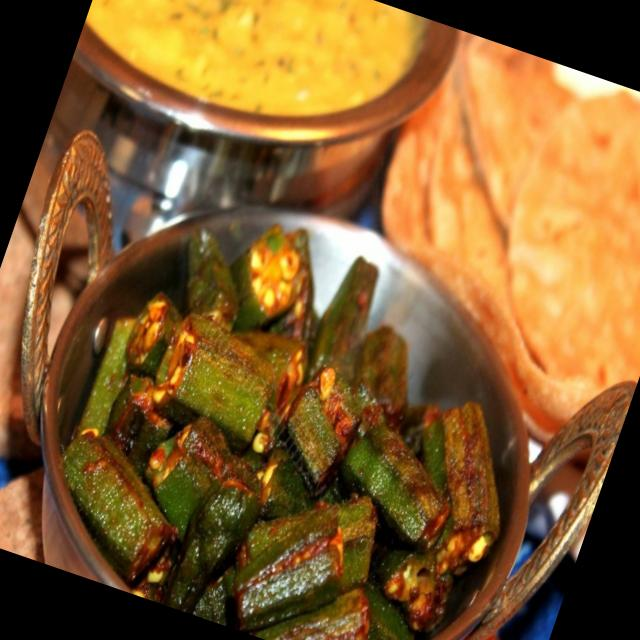BhindiMasala: (28, 179, 571, 640)
